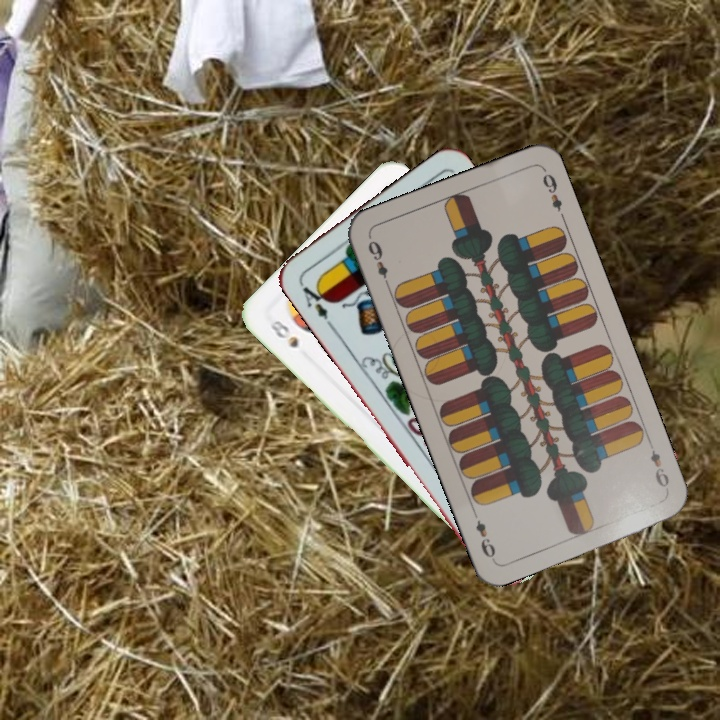E9: (363, 236, 393, 291), (644, 437, 672, 490)
EA: (298, 279, 335, 330)
S8: (265, 316, 301, 351)
